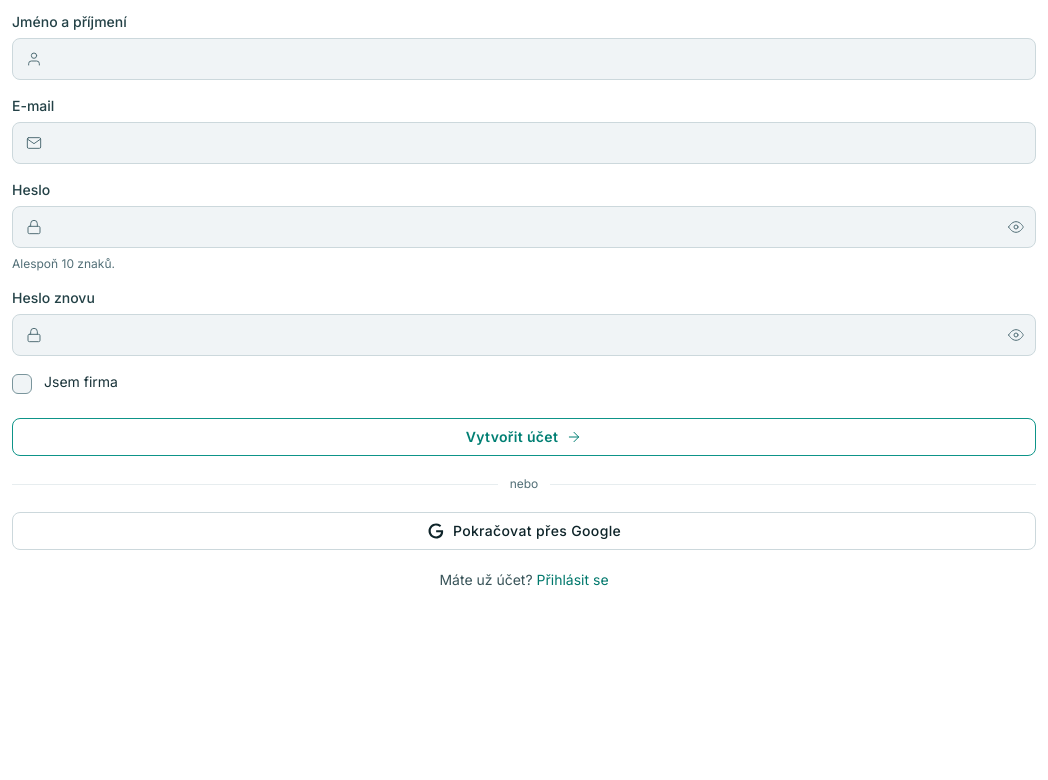
it: RegisterForm — Jsem firma (T-0162) › AC-2: company without DIČ renders the neplátce note
Click the checkbox labelled "Jsem firma" at (65, 384), box [12, 373, 118, 394]
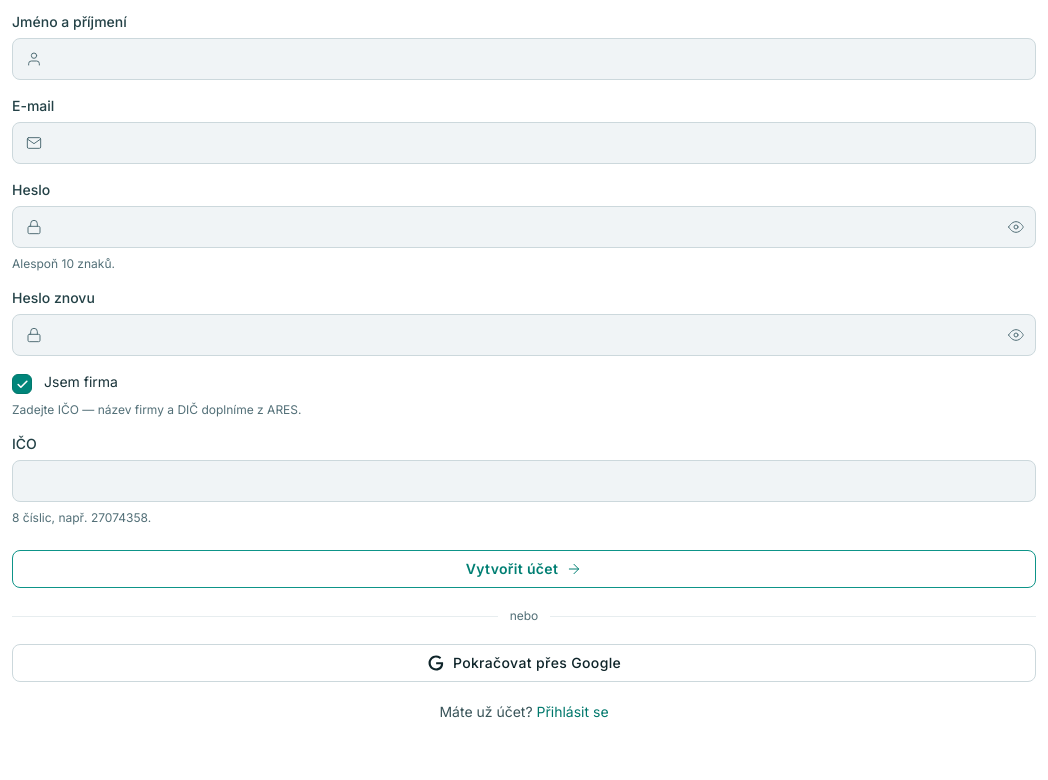
Type "27074358" into the field labelled "IČO" at (524, 481), box [12, 460, 1036, 502]
Wait 400 ms
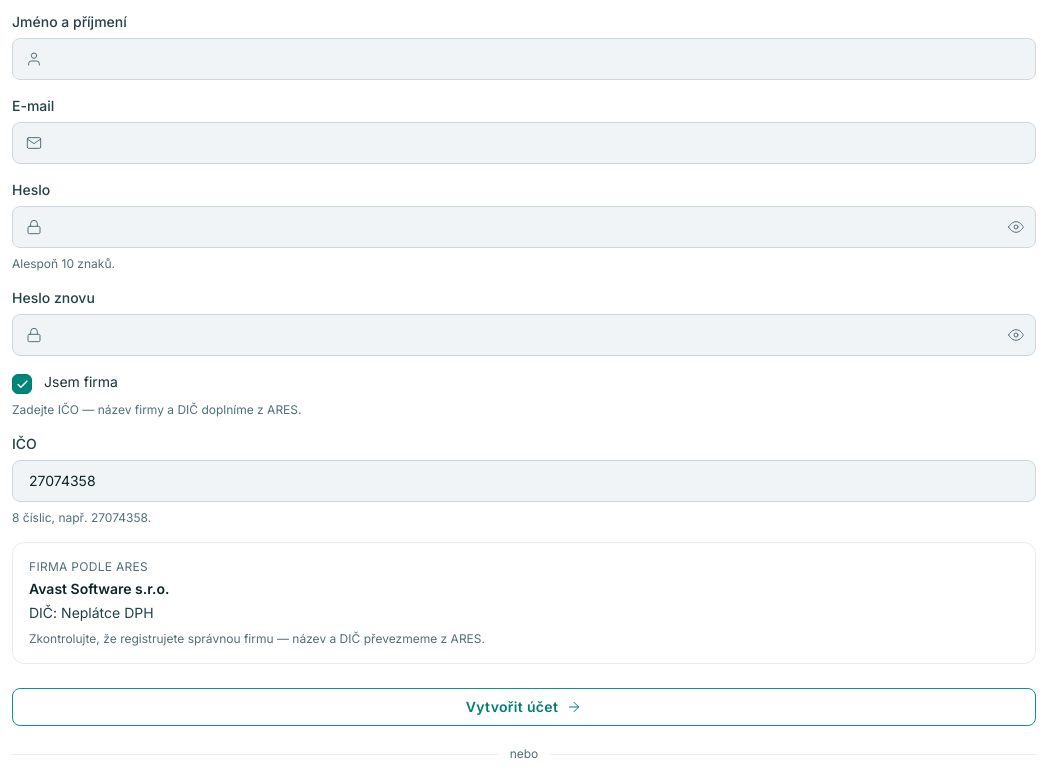
Check: the text "DIČ: Neplátce DPH" is shown, box [29, 604, 154, 621]
